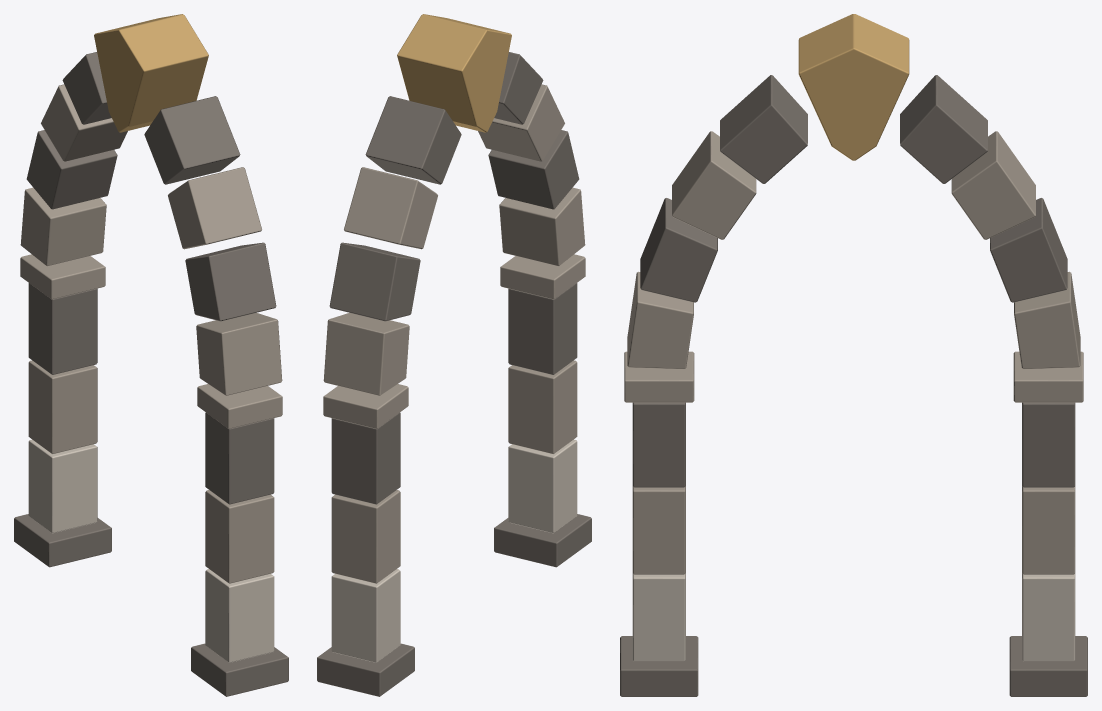
Rendered from arco_de_pedra.glb.
3 renders of one model, left to right at view 1: azimuth 30°, elevation 25°; view 2: azimuth 150°, elevation 25°; view 3: azimuth 270°, elevation 25°, orthographic. The views are drawn at different scales.
Visible parts, largest first — view 1: PedraCentral, CunhaAFrente, CunhaDFrente, PilarFundo1, PilarFundo2, PilarFrente2, PilarFrente1, CunhaBFrente, CunhaCFrente, PilarFrente3, PilarFundo3, CunhaAFundo (+7 smaller); view 2: PedraCentral, CunhaAFundo, CunhaDFundo, PilarFrente1, PilarFrente2, PilarFundo2, PilarFundo1, CunhaBFundo, CunhaCFundo, PilarFundo3, PilarFrente3, CunhaAFrente (+7 smaller); view 3: PedraCentral, CunhaDFrente, CunhaDFundo, CunhaCFrente, CunhaCFundo, CunhaBFrente, CunhaBFundo, PilarFrente1, PilarFrente2, PilarFundo1, PilarFundo2, CunhaAFrente (+7 smaller).
Part boxes in pixels (x1=…): PedraCentral: x1=94, y1=14, x2=208, y2=132; CunhaAFrente: x1=196, y1=312, x2=282, y2=395; CunhaDFrente: x1=144, y1=96, x2=240, y2=184; PilarFundo1: x1=28, y1=439, x2=97, y2=533; PilarFundo2: x1=28, y1=360, x2=97, y2=454; PilarFrente2: x1=205, y1=490, x2=274, y2=583; PilarFrente1: x1=205, y1=569, x2=274, y2=662; CunhaBFrente: x1=185, y1=242, x2=276, y2=321; CunhaCFrente: x1=168, y1=167, x2=261, y2=249; PilarFrente3: x1=205, y1=412, x2=274, y2=504; PilarFundo3: x1=28, y1=283, x2=97, y2=374; CunhaAFundo: x1=20, y1=187, x2=106, y2=266; PedraCentral: x1=397, y1=14, x2=511, y2=132; CunhaAFundo: x1=323, y1=312, x2=409, y2=395; CunhaDFundo: x1=365, y1=96, x2=461, y2=184; PilarFrente1: x1=508, y1=439, x2=577, y2=533; PilarFrente2: x1=508, y1=360, x2=577, y2=454; PilarFundo2: x1=331, y1=490, x2=400, y2=583; PilarFundo1: x1=331, y1=569, x2=400, y2=662; CunhaBFundo: x1=329, y1=242, x2=420, y2=321; CunhaCFundo: x1=344, y1=167, x2=437, y2=249; PilarFundo3: x1=331, y1=412, x2=400, y2=504; PilarFrente3: x1=508, y1=283, x2=577, y2=374; CunhaAFrente: x1=499, y1=187, x2=585, y2=266; PedraCentral: x1=798, y1=14, x2=909, y2=160; CunhaDFrente: x1=720, y1=75, x2=807, y2=183; CunhaDFundo: x1=900, y1=75, x2=987, y2=183; CunhaCFrente: x1=672, y1=131, x2=756, y2=239; CunhaCFundo: x1=951, y1=131, x2=1035, y2=239; CunhaBFrente: x1=640, y1=198, x2=717, y2=302; CunhaBFundo: x1=990, y1=198, x2=1067, y2=302; PilarFrente1: x1=632, y1=573, x2=685, y2=661; PilarFrente2: x1=632, y1=486, x2=685, y2=574; PilarFundo1: x1=1022, y1=573, x2=1075, y2=661; PilarFundo2: x1=1022, y1=486, x2=1075, y2=574; CunhaAFrente: x1=627, y1=271, x2=693, y2=369.
Bounding box in the file's own units: 0.6 × 5.11 × 3.34.
